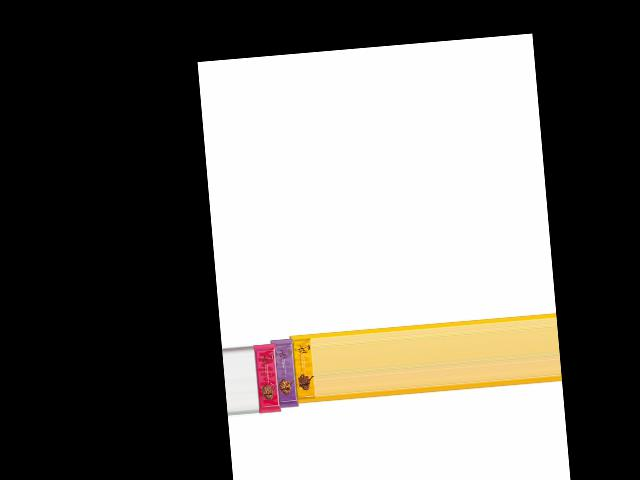chocolate: (252, 340, 281, 417)
